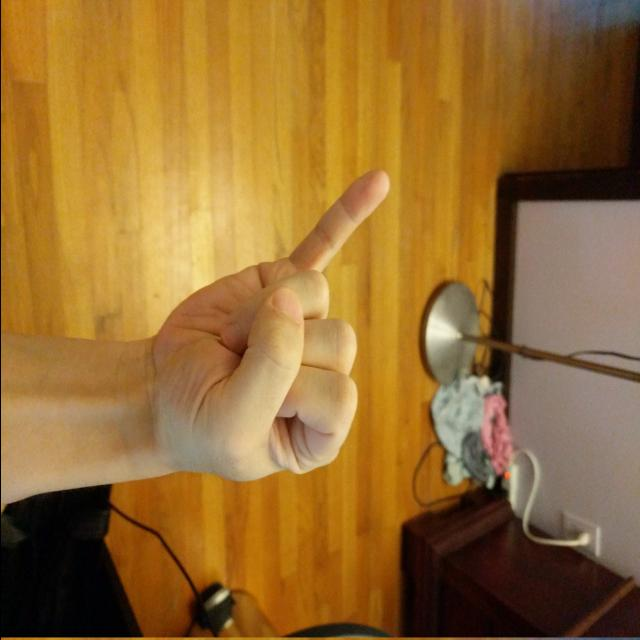I: (144, 163, 394, 491)
